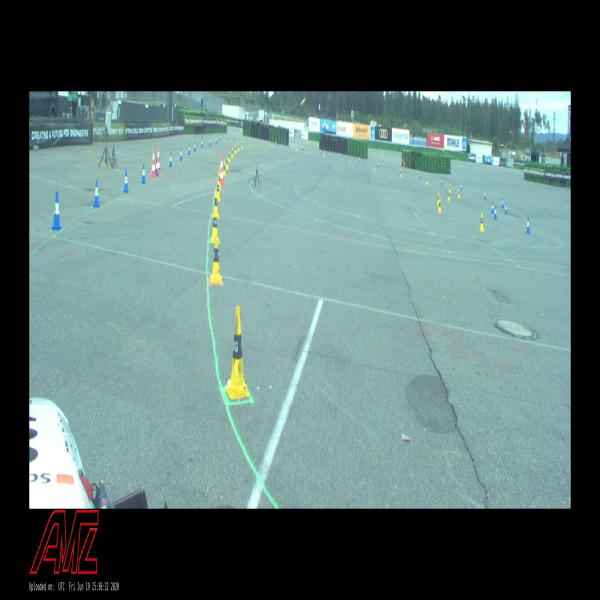blue_cone: (52, 192, 61, 230), (94, 179, 100, 207), (124, 170, 129, 192), (142, 163, 146, 183), (526, 216, 530, 233), (169, 152, 172, 167), (494, 205, 497, 220), (180, 147, 183, 161), (491, 202, 494, 213), (505, 203, 508, 214), (201, 138, 204, 148), (188, 144, 191, 154), (501, 198, 504, 208), (156, 160, 158, 175), (209, 137, 212, 145), (440, 178, 443, 186), (194, 141, 196, 151), (484, 190, 486, 200), (215, 136, 217, 144), (419, 172, 421, 180), (460, 183, 462, 191), (377, 161, 379, 168), (227, 133, 229, 140), (399, 166, 401, 173), (302, 144, 304, 150), (250, 136, 252, 142), (320, 148, 322, 153), (234, 133, 235, 140), (359, 156, 360, 162), (220, 134, 221, 140), (276, 140, 277, 146), (339, 152, 340, 158)
large_orange_cone: (220, 155, 225, 184), (151, 148, 156, 176), (157, 148, 161, 174)
yellow_cone: (226, 306, 249, 398), (210, 234, 222, 284), (210, 207, 220, 242), (213, 189, 219, 217), (479, 212, 484, 231), (217, 178, 221, 200), (438, 198, 441, 213), (226, 156, 229, 169), (219, 170, 221, 189), (231, 147, 234, 158), (224, 162, 226, 175), (228, 151, 230, 163), (458, 188, 460, 199), (437, 193, 439, 204), (448, 190, 450, 200), (238, 143, 240, 151), (242, 141, 244, 149), (426, 176, 428, 184), (323, 150, 325, 158), (448, 184, 450, 192), (400, 169, 402, 176), (349, 156, 351, 163), (235, 144, 236, 153), (374, 163, 375, 170), (269, 140, 270, 147), (296, 145, 297, 151), (250, 140, 251, 146)
